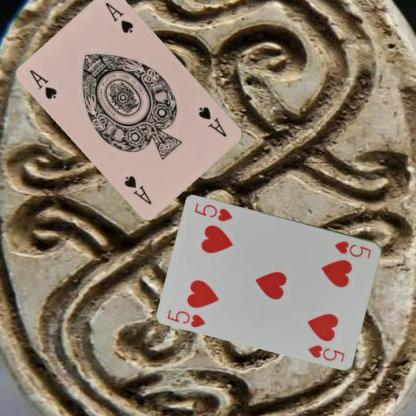5h: (165, 307, 207, 329), (332, 238, 373, 259)
As: (196, 103, 229, 139), (27, 66, 59, 100)
